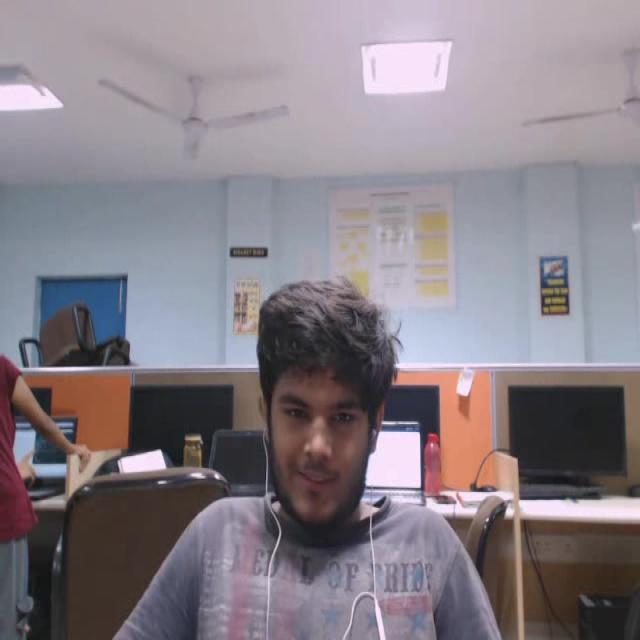Engaged: (212, 238, 496, 586)
